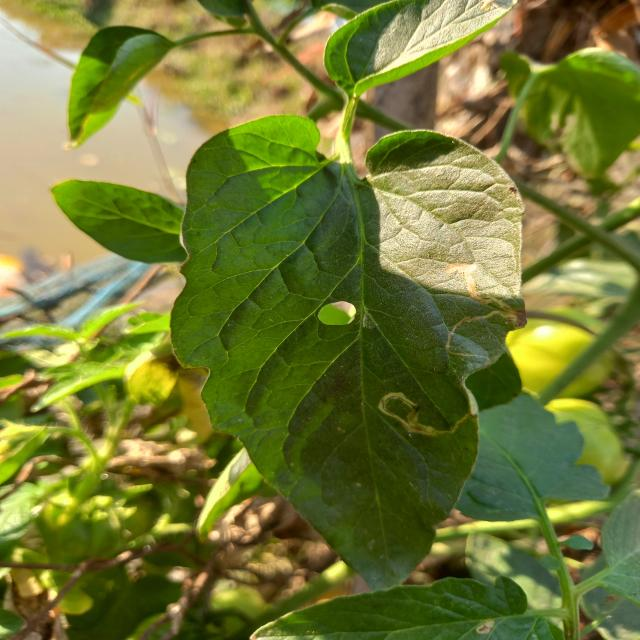Tuta absoluta: (374, 379, 462, 453), (452, 261, 535, 334), (448, 261, 460, 273)
